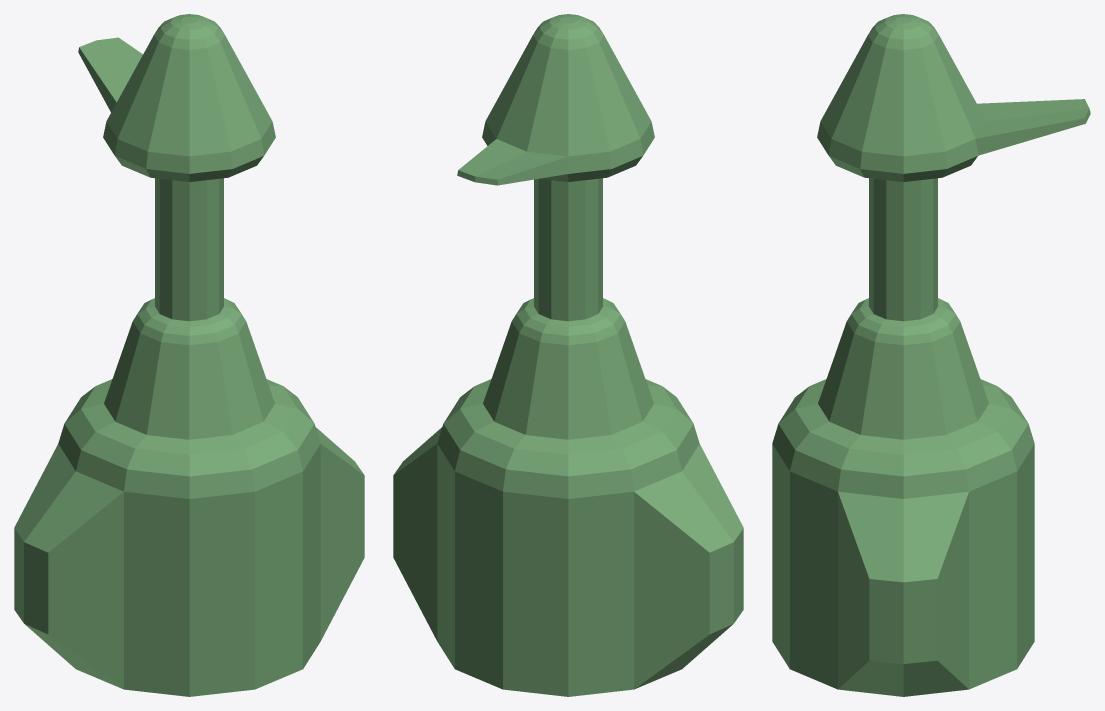
File: Figure_8.fbx
The picture shows the model from 3 angles, left to right: view 1: azimuth 30°, elevation 25°; view 2: azimuth 150°, elevation 25°; view 3: azimuth 270°, elevation 25°; orthographic projection.
Parts seen in each view (by area): view 1: Figure_8; view 2: Figure_8; view 3: Figure_8.
Part boxes in pixels (x1,y1,x2,y2): Figure_8: (14,14,364,696); Figure_8: (393,14,743,696); Figure_8: (772,14,1090,696).
Size of the model in its own units: 0.6623 by 0.5522 by 1.19.
